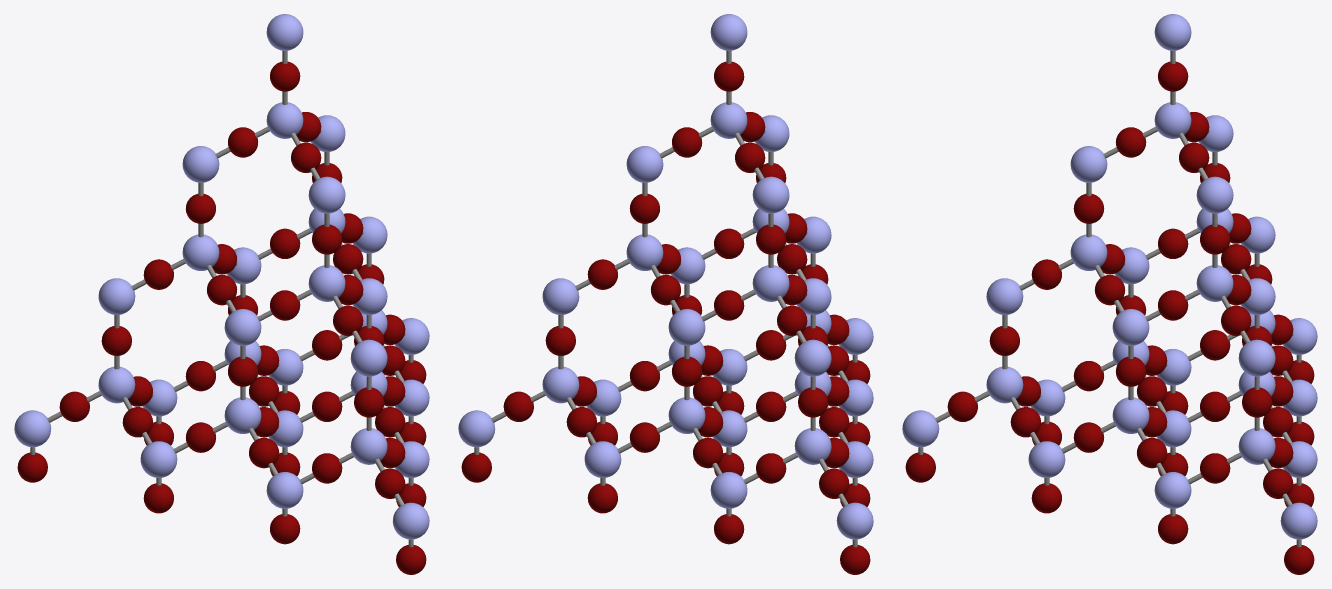
File: eryanghuagui.FBX
3 renders of one model, left to right at view 1: azimuth 30°, elevation 25°; view 2: azimuth 150°, elevation 25°; view 3: azimuth 270°, elevation 25°, orthographic.
Parts seen in each view (by area): view 1: Sphere069, Sphere065, Sphere039, Sphere035, Sphere087, Sphere037, Sphere054, Sphere099, Sphere057, Sphere071, Sphere086, Sphere061 (+53 smaller); view 2: Sphere037, Sphere087, Sphere035, Sphere054, Sphere083, Sphere091, Sphere038, Sphere058, Sphere050, Sphere079, Sphere078, Sphere036 (+54 smaller); view 3: Sphere083, Sphere050, Sphere038, Sphere035, Sphere069, Sphere039, Sphere049, Sphere077, Sphere065, Sphere075, Sphere070, Sphere061 (+54 smaller).
Part boxes in pixels (x1=…): Sphere069: x1=392, y1=502, x2=429, y2=539; Sphere065: x1=350, y1=339, x2=387, y2=376; Sphere039: x1=308, y1=176, x2=345, y2=213; Sphere035: x1=266, y1=14, x2=303, y2=50; Sphere087: x1=14, y1=410, x2=51, y2=447; Sphere037: x1=182, y1=146, x2=219, y2=182; Sphere054: x1=98, y1=278, x2=135, y2=314; Sphere099: x1=140, y1=441, x2=177, y2=477; Sphere057: x1=224, y1=309, x2=261, y2=345; Sphere071: x1=266, y1=472, x2=303, y2=508; Sphere086: x1=98, y1=366, x2=135, y2=403; Sphere061: x1=308, y1=265, x2=345, y2=301; Sphere037: x1=752, y1=176, x2=789, y2=213; Sphere087: x1=836, y1=502, x2=873, y2=539; Sphere035: x1=710, y1=14, x2=747, y2=50; Sphere054: x1=794, y1=339, x2=831, y2=376; Sphere083: x1=458, y1=410, x2=495, y2=447; Sphere091: x1=710, y1=472, x2=747, y2=508; Sphere038: x1=626, y1=146, x2=663, y2=182; Sphere058: x1=668, y1=309, x2=705, y2=345; Sphere050: x1=542, y1=278, x2=579, y2=314; Sphere079: x1=584, y1=441, x2=621, y2=477; Sphere078: x1=542, y1=366, x2=579, y2=403; Sphere036: x1=710, y1=102, x2=747, y2=138; Sphere083: x1=1280, y1=502, x2=1317, y2=539; Sphere050: x1=1238, y1=339, x2=1275, y2=376; Sphere038: x1=1196, y1=176, x2=1233, y2=213; Sphere035: x1=1154, y1=14, x2=1191, y2=50; Sphere069: x1=902, y1=410, x2=939, y2=447; Sphere039: x1=1070, y1=146, x2=1107, y2=182; Sphere049: x1=1112, y1=309, x2=1149, y2=345; Sphere077: x1=1154, y1=472, x2=1191, y2=508; Sphere065: x1=986, y1=278, x2=1023, y2=314; Sphere075: x1=1028, y1=441, x2=1065, y2=477; Sphere070: x1=986, y1=366, x2=1023, y2=403; Sphere061: x1=1070, y1=234, x2=1107, y2=270.
Bounding box in the file's own units: 39.09 × 42.38 × 34.26.
